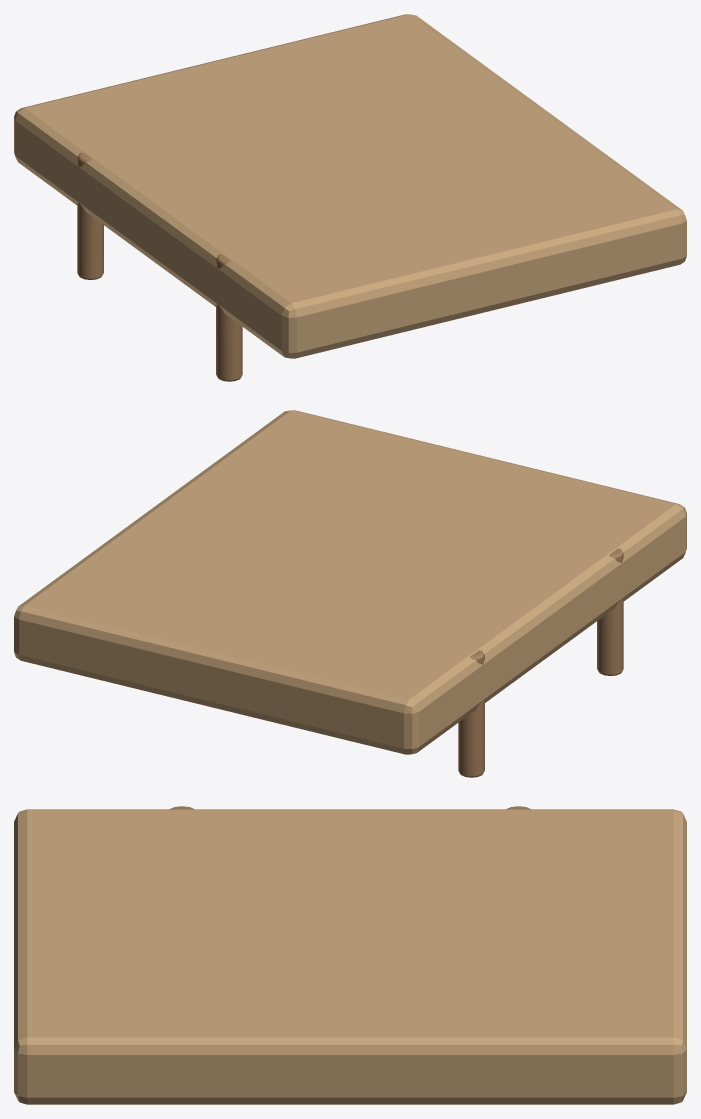
File: marina_dock_connector_lod1_v1.glb
The picture shows the model from 3 angles, top to bottom: view 1: azimuth 30°, elevation 25°; view 2: azimuth 150°, elevation 25°; view 3: azimuth 270°, elevation 25°; orthographic projection. The views are drawn at different scales.
Parts seen in each view (by area): view 1: LOD1_MARINA_DOCK_CONNECTOR_Deck, LOD1_MARINA_DOCK_CONNECTOR_Pile_01, LOD1_MARINA_DOCK_CONNECTOR_Pile_02; view 2: LOD1_MARINA_DOCK_CONNECTOR_Deck, LOD1_MARINA_DOCK_CONNECTOR_Pile_02, LOD1_MARINA_DOCK_CONNECTOR_Pile_01; view 3: LOD1_MARINA_DOCK_CONNECTOR_Deck.
Boxes of the visible parts, box(x1,y1,x2,y2) form: LOD1_MARINA_DOCK_CONNECTOR_Deck: box(14, 14, 686, 358); LOD1_MARINA_DOCK_CONNECTOR_Pile_01: box(216, 254, 242, 381); LOD1_MARINA_DOCK_CONNECTOR_Pile_02: box(77, 152, 103, 279); LOD1_MARINA_DOCK_CONNECTOR_Deck: box(14, 410, 686, 754); LOD1_MARINA_DOCK_CONNECTOR_Pile_02: box(458, 650, 484, 777); LOD1_MARINA_DOCK_CONNECTOR_Pile_01: box(597, 548, 623, 675); LOD1_MARINA_DOCK_CONNECTOR_Deck: box(14, 809, 686, 1104).
Size of what is drawn, in the model's own units: 4.2 by 1.21 by 5.
